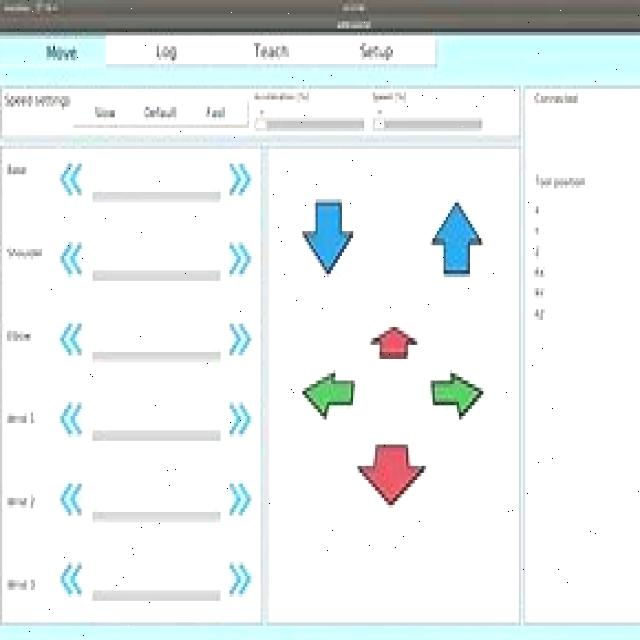button: (296, 189, 358, 289), (428, 188, 485, 295), (298, 341, 357, 442), (353, 445, 429, 518), (426, 362, 491, 436), (363, 309, 424, 367), (182, 90, 252, 129), (126, 90, 184, 128), (54, 391, 86, 458), (225, 307, 257, 363), (58, 312, 88, 369), (70, 98, 131, 126), (56, 472, 86, 528), (227, 552, 258, 603), (54, 553, 85, 600), (226, 474, 255, 524), (226, 396, 255, 446), (224, 236, 253, 285), (56, 235, 87, 280), (55, 156, 85, 198), (226, 156, 255, 199)
slider: (89, 179, 224, 210), (89, 423, 222, 452), (90, 503, 224, 529), (90, 342, 223, 368), (90, 264, 222, 288), (254, 112, 366, 138), (372, 112, 488, 136), (90, 586, 224, 605)
tabControl: (102, 26, 440, 71)
